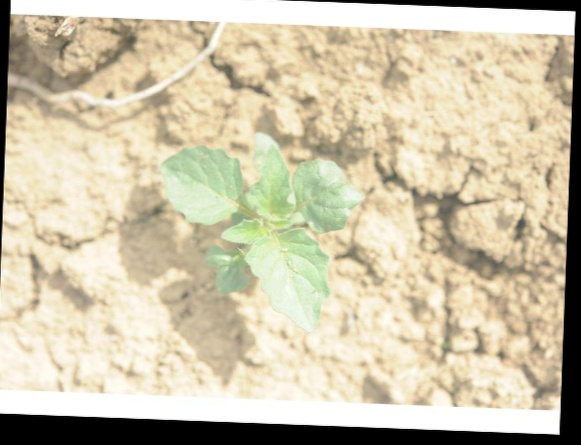nightshade: (156, 130, 358, 332)
